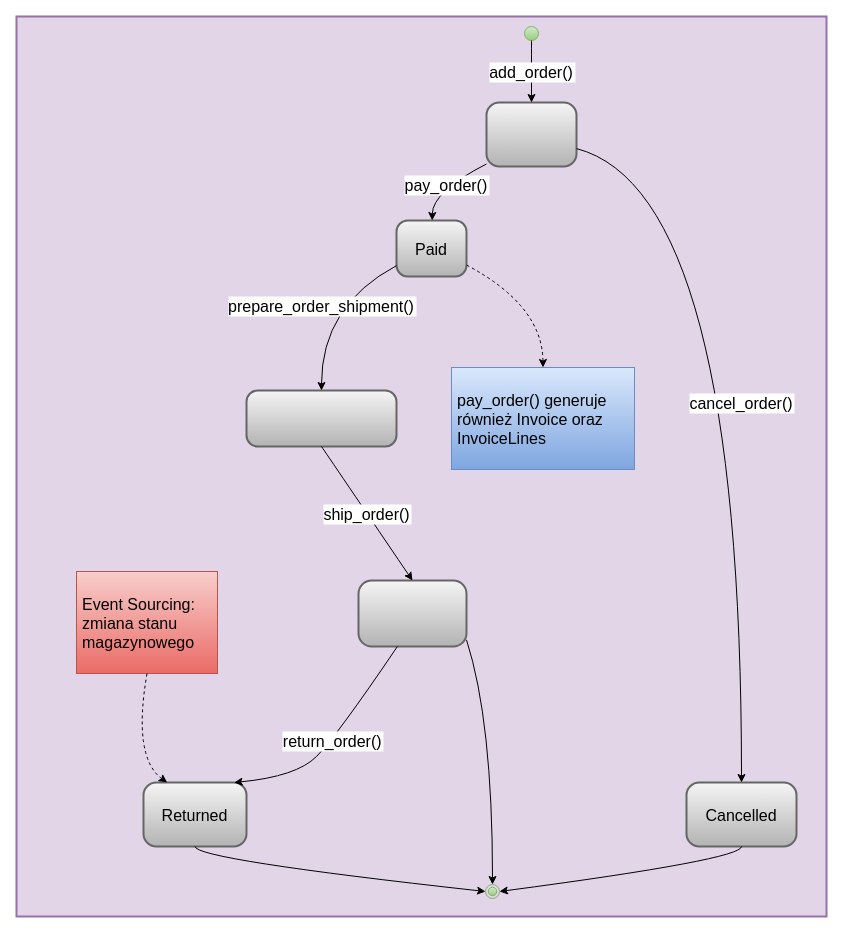
Image size: 843x933. Some labels were removed from this diagram. Each missing label, with the centre of its shape:
"Placed" belongs at (531,134).
"Ready_to_Ship" belongs at (321,418).
"Shipped" belongs at (412,613).
